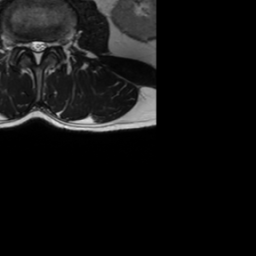CCS_normal: (34, 35, 41, 70)
LFS_stenosis: (49, 36, 55, 53)
LLS_stenosis: (41, 35, 48, 56)
RFS_severe_stenosis: (19, 34, 28, 53)
RLS_stenosis: (27, 35, 34, 57)
